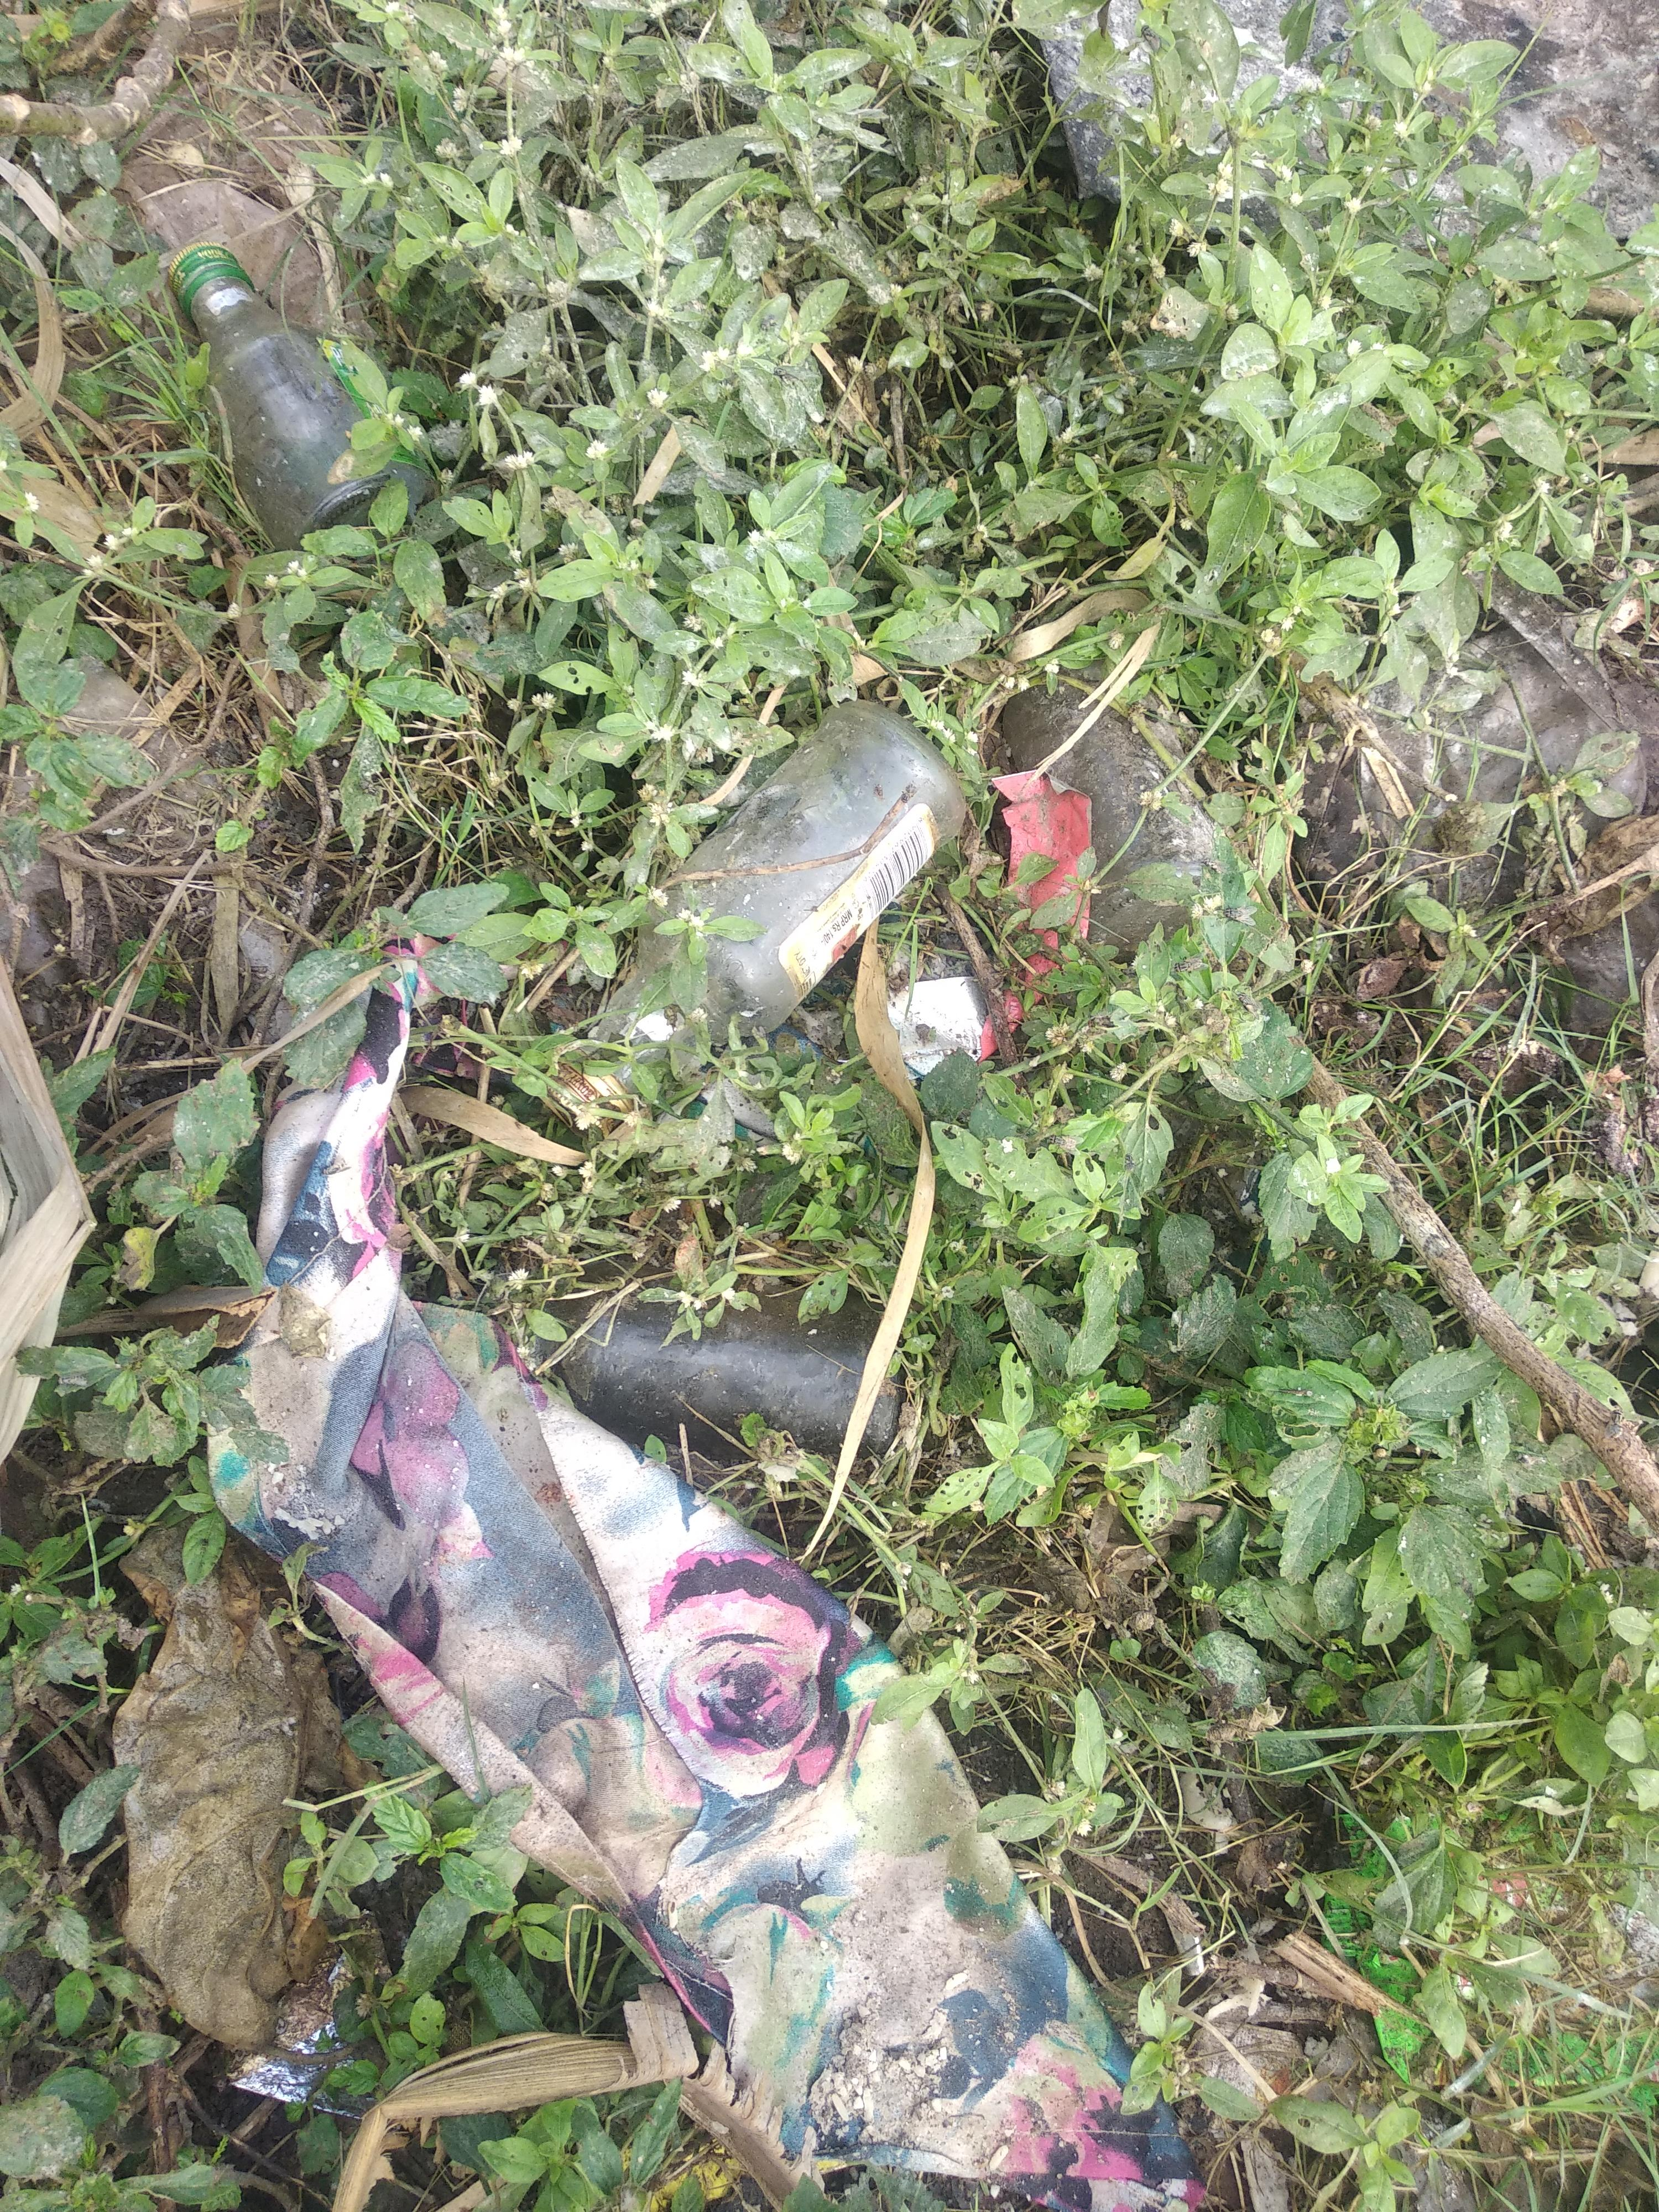organic: (0, 688, 1183, 2212)
